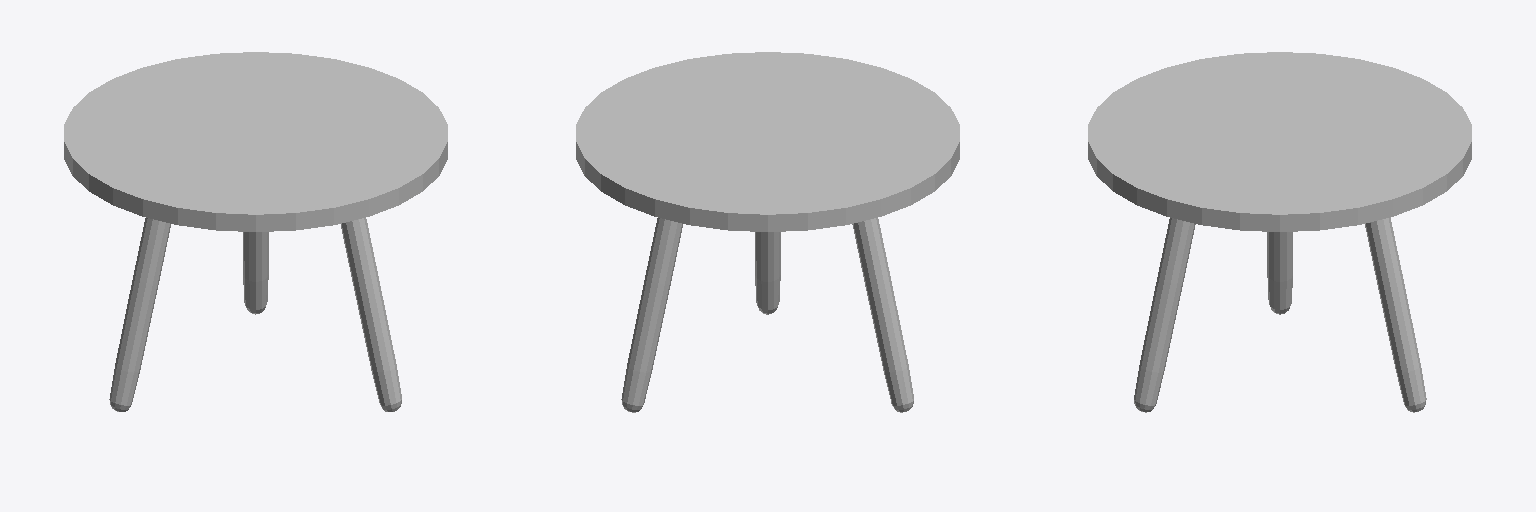
File: desktop.obj
The picture shows the model from 3 angles: view 1: azimuth 30°, elevation 25°; view 2: azimuth 150°, elevation 25°; view 3: azimuth 270°, elevation 25°; orthographic projection.
Visible parts, largest first — view 1: default; view 2: default; view 3: default.
Boxes of the visible parts, box(x1,y1,x2,y2) form: default: box(64, 52, 447, 411); default: box(576, 52, 959, 412); default: box(1088, 52, 1471, 412).
Bounding box in the file's own units: 1 × 0.7019 × 0.9945.